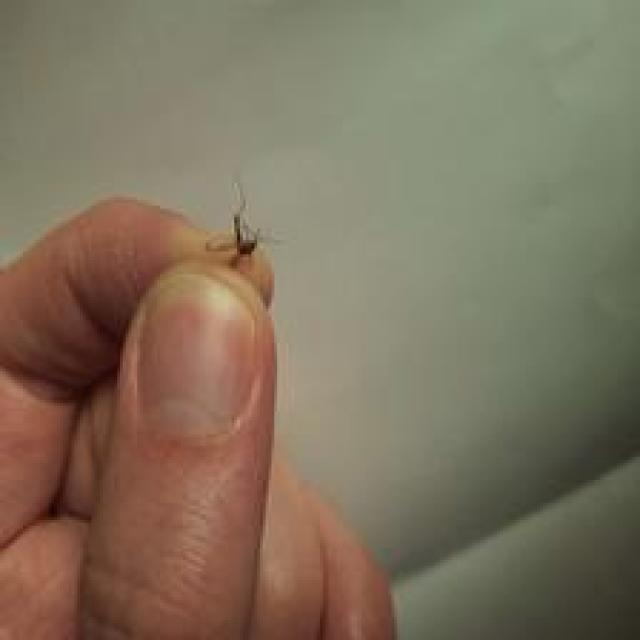Culex: (203, 179, 280, 267)
